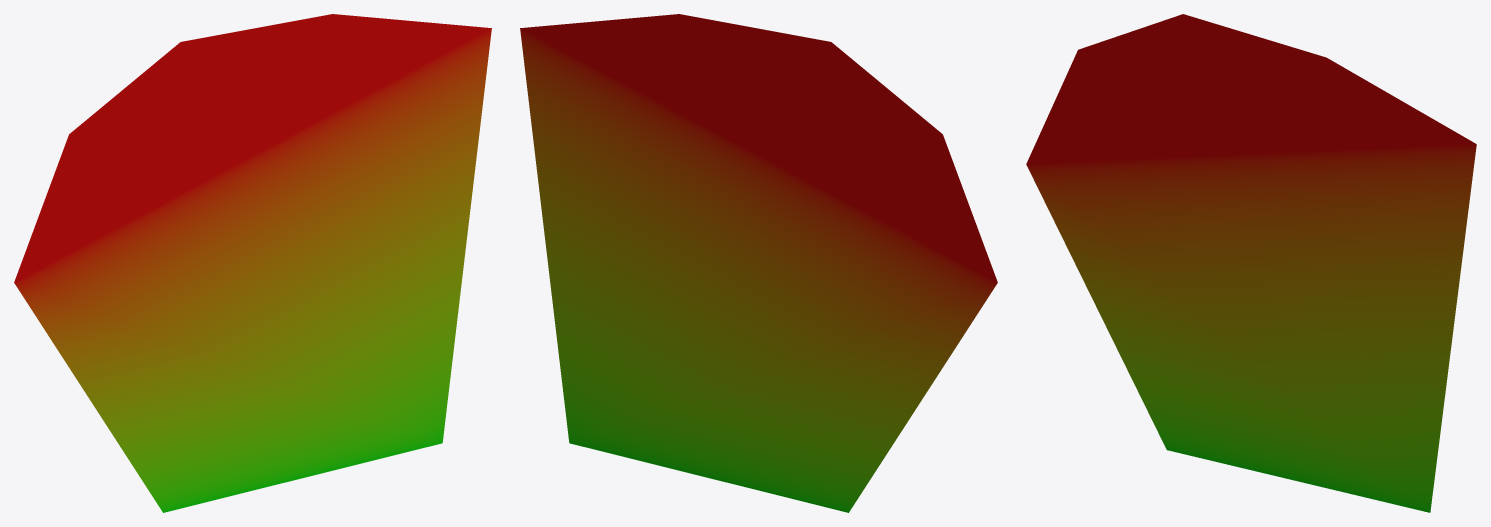
Rendered from Var6_LOD3.fbx.
The picture shows the model from 3 angles, left to right: view 1: azimuth 30°, elevation 25°; view 2: azimuth 150°, elevation 25°; view 3: azimuth 330°, elevation 25°; orthographic projection. The views are drawn at different scales.
Parts seen in each view (by area): view 1: _fe9e_Var6_LOD3; view 2: _fe9e_Var6_LOD3; view 3: _fe9e_Var6_LOD3.
Boxes of the visible parts, x1=… form: _fe9e_Var6_LOD3: x1=14, y1=14, x2=491, y2=512; _fe9e_Var6_LOD3: x1=520, y1=14, x2=997, y2=512; _fe9e_Var6_LOD3: x1=1026, y1=14, x2=1476, y2=512.
Size of the model in its own units: 171 by 159 by 7.63e-06.
